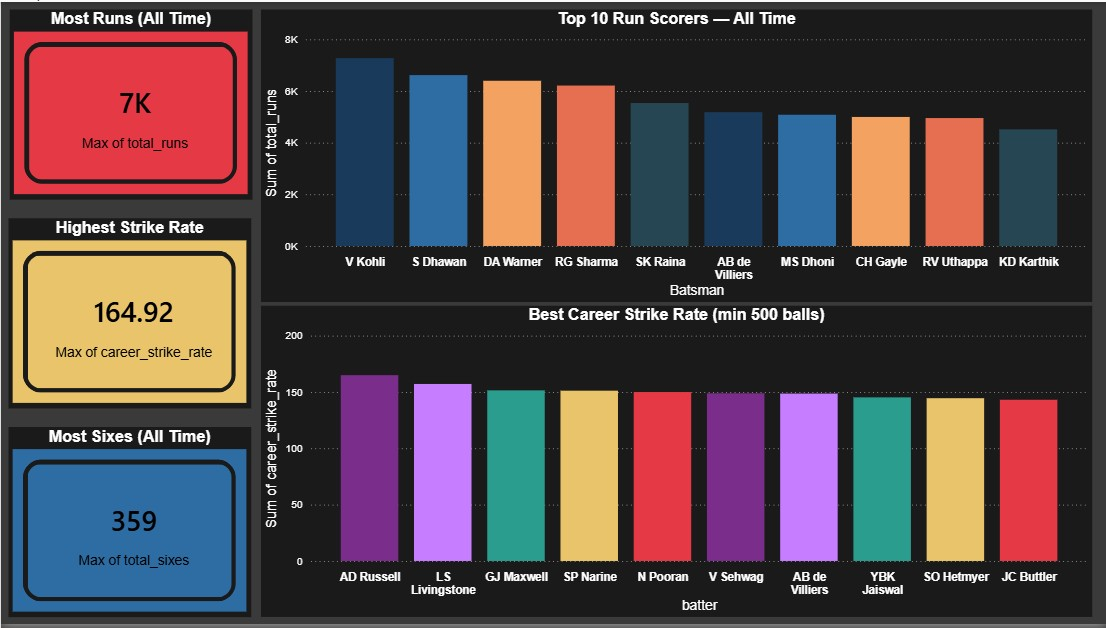

Layout of this report page (visuals, bound fields, positions):
{"tool":"powerbi","page":{"name":"Batting Stats","canvas":[1280,720],"ordinal":1},"visuals":[{"type":"clusteredColumnChart","title":"Top 10 Run Scorers — All Time","fields":{"Category":["top_run_scorers.batter"],"Y":["Sum(top_run_scorers.total_runs)"]},"box":[300.8,8.7,961.6,338.4],"z":0},{"type":"clusteredColumnChart","title":"Best Career Strike Rate (min 500 balls)","fields":{"Category":["best_strike_rates.batter"],"Y":["Sum(best_strike_rates.career_strike_rate)"]},"box":[300.8,351.4,961.6,360.1],"z":1000},{"type":"cardVisual","title":"Most Runs (All Time)","fields":{"Data":["Max(top_run_scorers.total_runs)"]},"box":[10.1,8.7,280.5,219.8],"z":2000},{"type":"cardVisual","title":"Most Sixes (All Time)","fields":{"Data":["Max(top_run_scorers.total_sixes)"]},"box":[8.7,491.6,280.5,219.8],"z":3000},{"type":"cardVisual","title":"Highest Strike Rate","fields":{"Data":["Max(best_strike_rates.career_strike_rate)"]},"box":[8.7,250.2,280.5,219.8],"z":4000}]}

Visuals, with their boxes in screenshot pixels (x1, y1, x2, y2), scaled from the page's 1280x720 canvas onto the 1106x628 screenshot:
"Top 10 Run Scorers — All Time" clusteredColumnChart: 260/8/1091/303
"Best Career Strike Rate (min 500 balls)" clusteredColumnChart: 260/306/1091/621
"Most Runs (All Time)" cardVisual: 9/8/251/199
"Most Sixes (All Time)" cardVisual: 8/429/250/620
"Highest Strike Rate" cardVisual: 8/218/250/410
